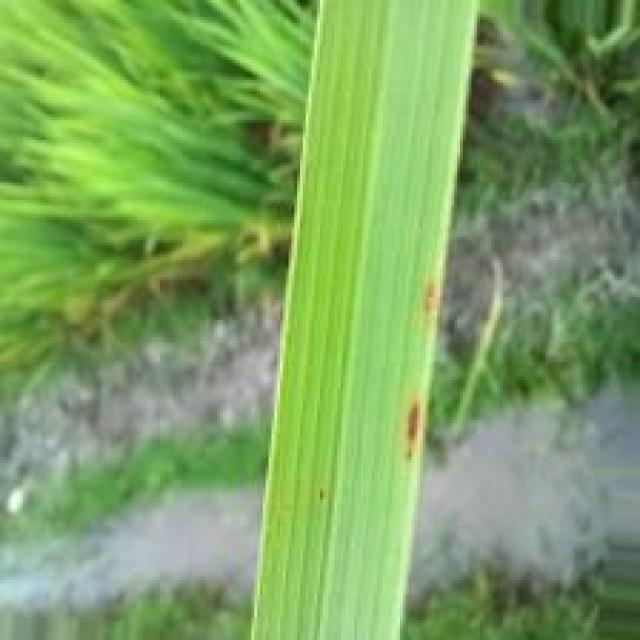Brown_Spot: (409, 392, 424, 473), (426, 269, 438, 325)
